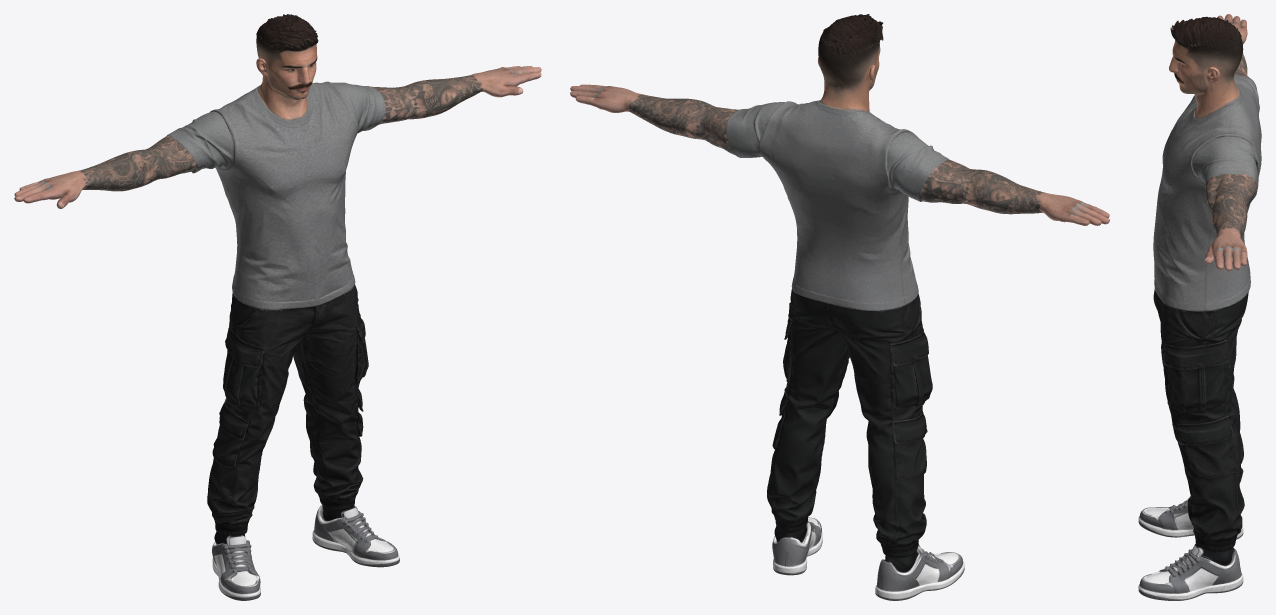
The model's file is image3d.glb.
The picture shows the model from 3 angles, left to right: view 1: azimuth 30°, elevation 25°; view 2: azimuth 150°, elevation 25°; view 3: azimuth 270°, elevation 25°; orthographic projection. The views are drawn at different scales.
Size of the model in its own units: 1.9 by 1.88 by 0.3863.
Materials: 1 (1 with a texture image).
